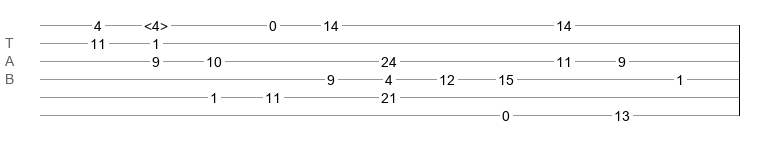0: (269, 18, 277, 28), (502, 108, 510, 118)
1: (152, 36, 160, 46), (210, 90, 218, 100), (676, 72, 684, 82)
10: (206, 54, 222, 64)
11: (90, 36, 106, 46), (265, 90, 281, 100), (556, 54, 572, 64)
12: (439, 72, 455, 82)
13: (614, 108, 630, 118)
14: (323, 18, 339, 28), (556, 18, 572, 28)
15: (498, 72, 514, 82)
21: (381, 90, 397, 100)
24: (381, 54, 397, 64)
4: (94, 18, 102, 28), (385, 72, 393, 82)
9: (152, 54, 160, 64), (327, 72, 335, 82), (618, 54, 626, 64)
harmonic: (144, 18, 168, 28)
